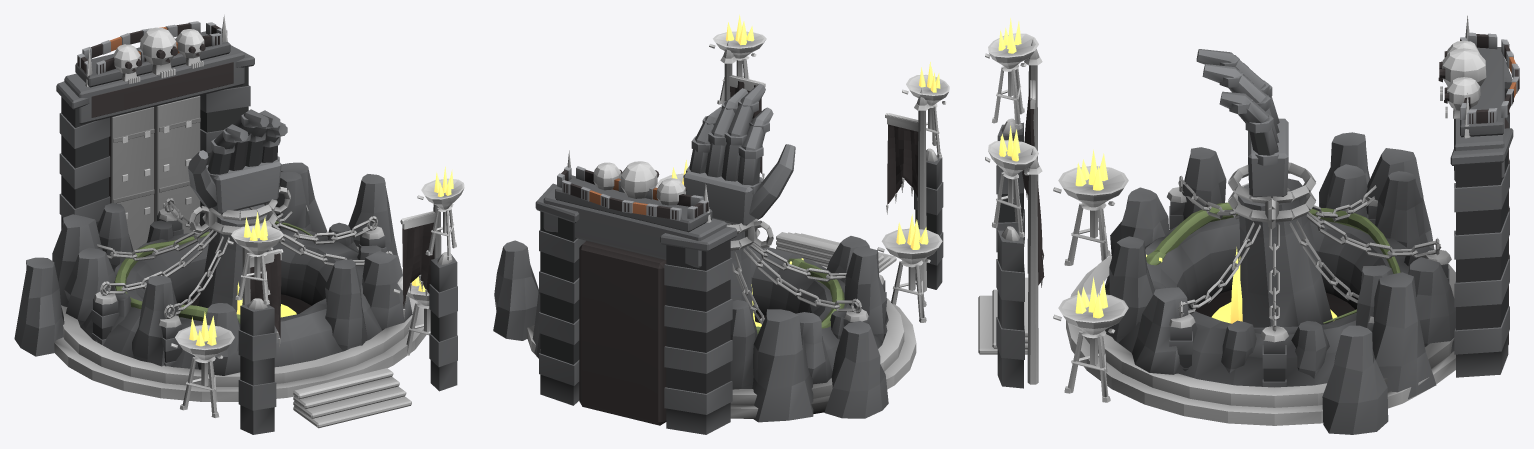
The model's file is pit-of-tartarus-l3.glb.
The picture shows the model from 3 angles, left to right: view 1: azimuth 30°, elevation 25°; view 2: azimuth 150°, elevation 25°; view 3: azimuth 270°, elevation 25°; orthographic projection. The views are drawn at different scales.
Visible parts, largest first — view 1: pit-of-tartarus-l3; view 2: pit-of-tartarus-l3; view 3: pit-of-tartarus-l3.
Boxes of the visible parts, box(x1,y1,x2,y2) form: pit-of-tartarus-l3: box(14, 15, 464, 434); pit-of-tartarus-l3: box(493, 14, 949, 434); pit-of-tartarus-l3: box(978, 15, 1519, 434).
Size of the model in its own units: 1.46 by 0.8937 by 1.55.
